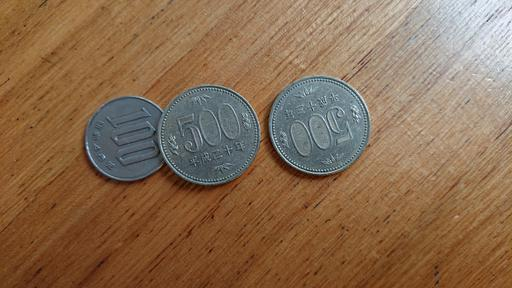100yen: (85, 97, 173, 181)
500yen: (158, 85, 261, 185), (269, 76, 370, 173)
